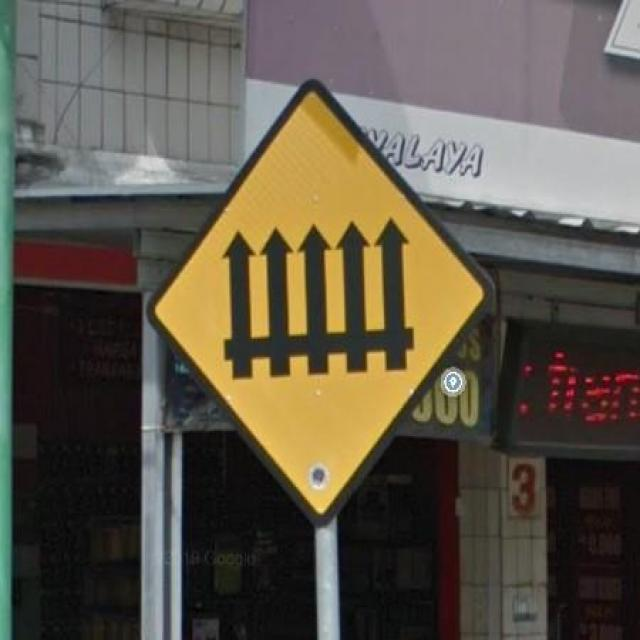traffic sign: (164, 86, 487, 506)
